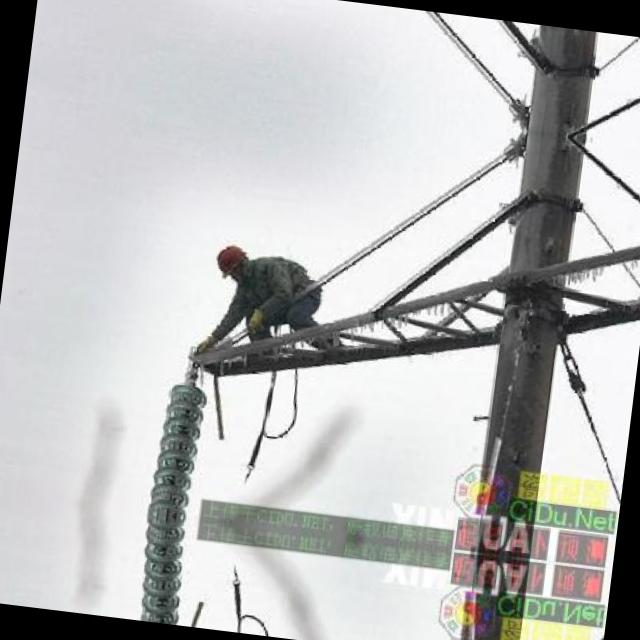helmet: (208, 240, 257, 282)
